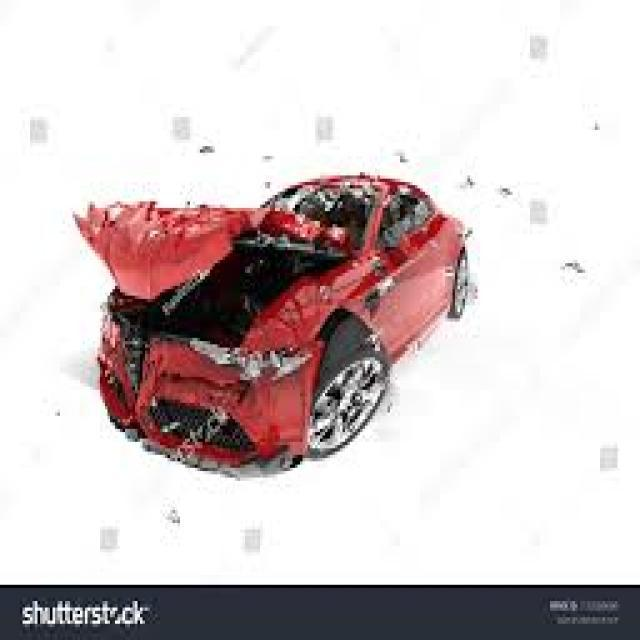damaged-hood: (70, 202, 344, 339)
